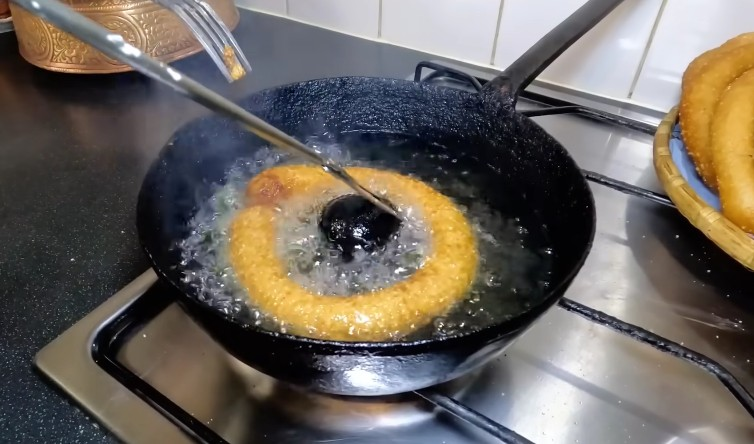sel_roti: (230, 161, 478, 339)
